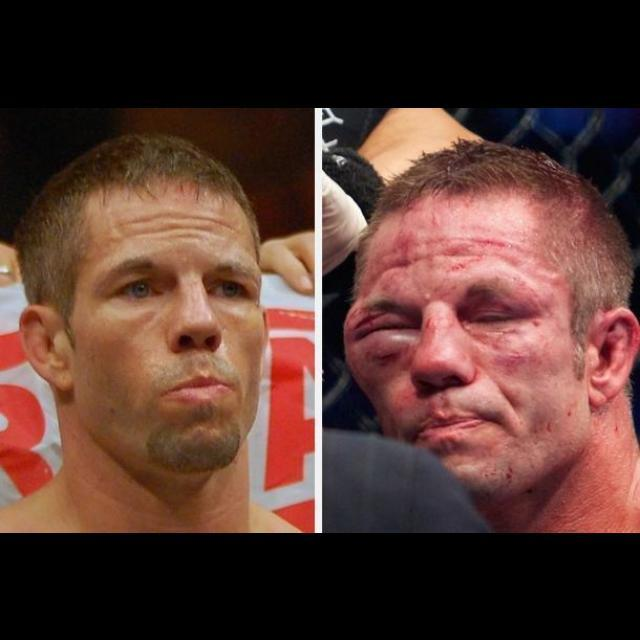blood: (346, 272, 423, 379)
